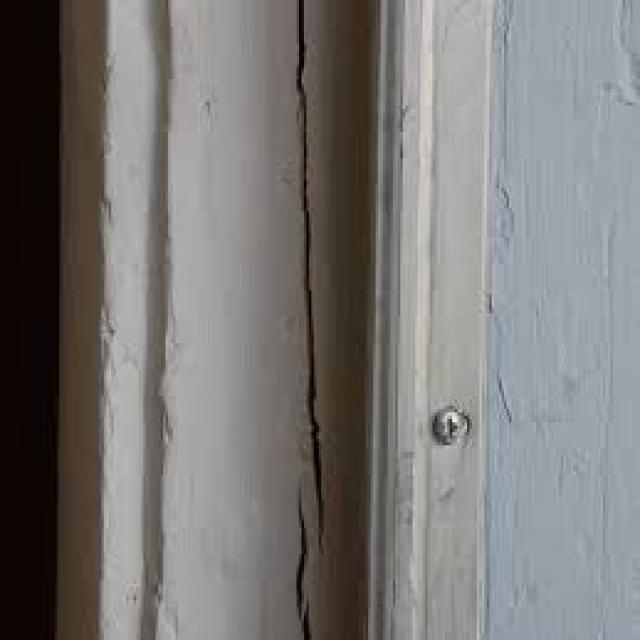Crack: (286, 0, 323, 544), (287, 478, 316, 634)
